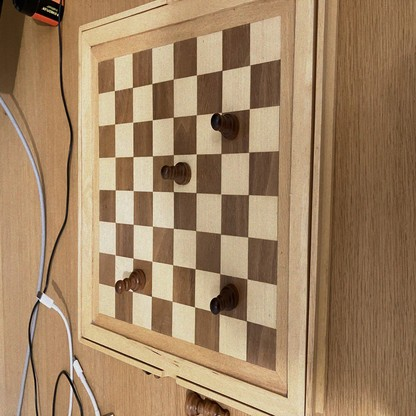pawn_black: (209, 284, 239, 314), (115, 269, 147, 293), (211, 114, 239, 140), (162, 162, 191, 185)
